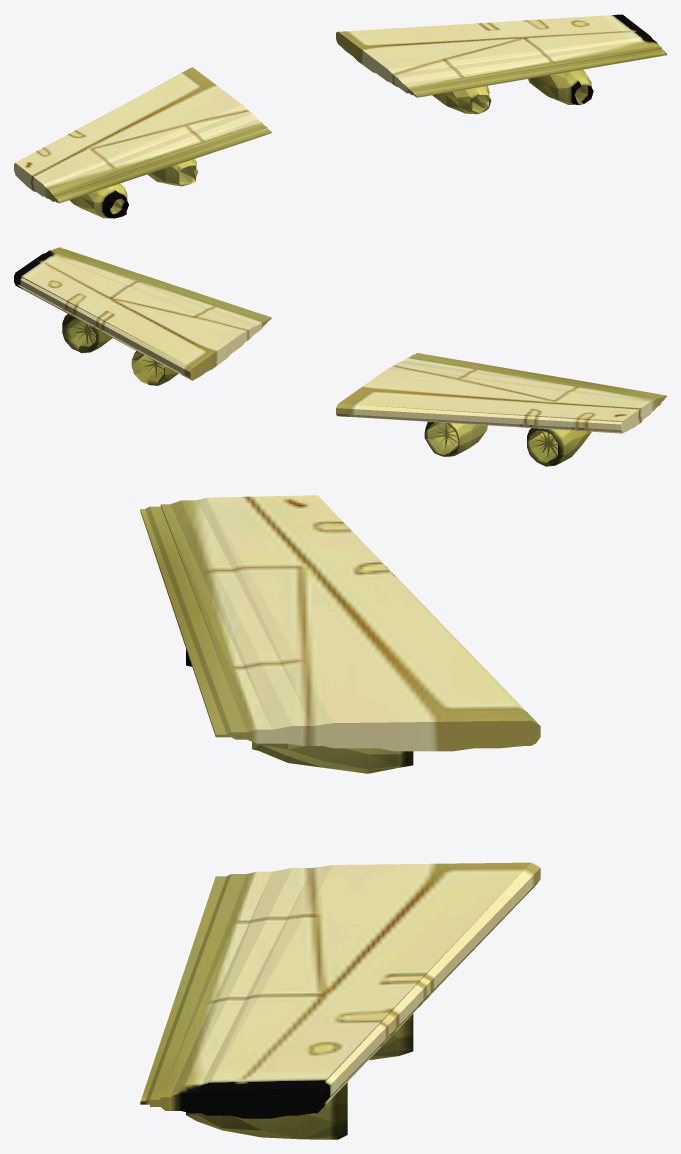
The model's file is Wing1.glb.
3 views of the same model, one above another, from view 1: azimuth 30°, elevation 25°; view 2: azimuth 150°, elevation 25°; view 3: azimuth 270°, elevation 25° (orthographic). The views are drawn at different scales.
Visible parts, largest first — view 1: Wing1; view 2: Wing1; view 3: Wing1.
Boxes of the visible parts, left/top/right/bottom form: Wing1: left=14, top=14, right=666, bottom=218; Wing1: left=14, top=247, right=666, bottom=466; Wing1: left=140, top=495, right=540, bottom=1139.
Size of the model in its own units: 366 by 34.84 by 104.
1 material, 1 textured.
